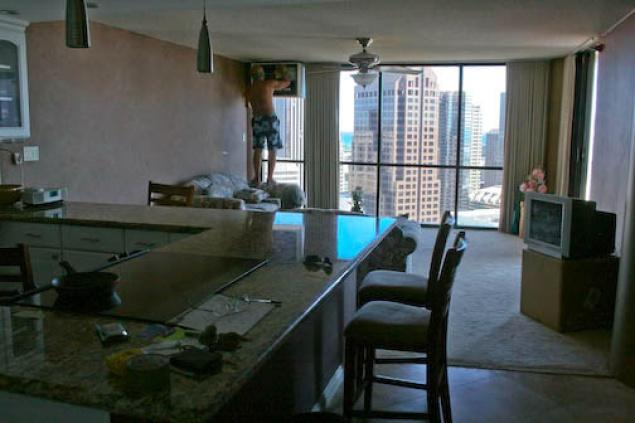Kursi: (341, 229, 467, 422), (357, 209, 454, 306)
